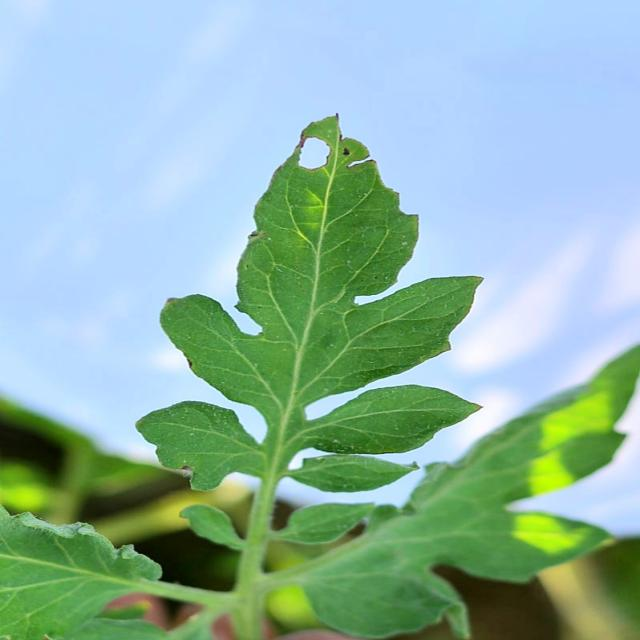infected: (294, 129, 396, 216)
